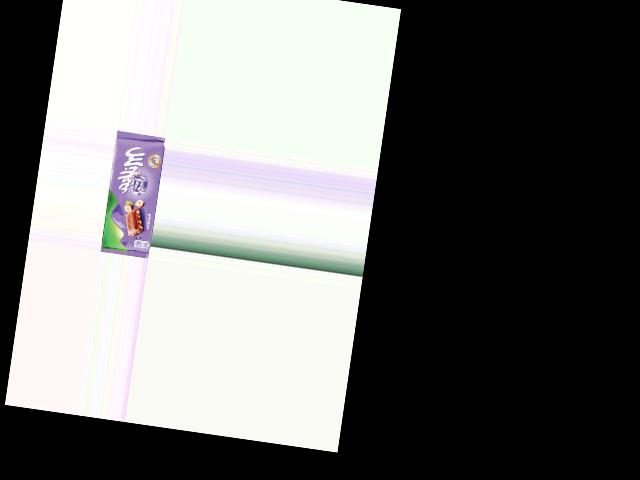chocolate: (100, 130, 166, 259)
